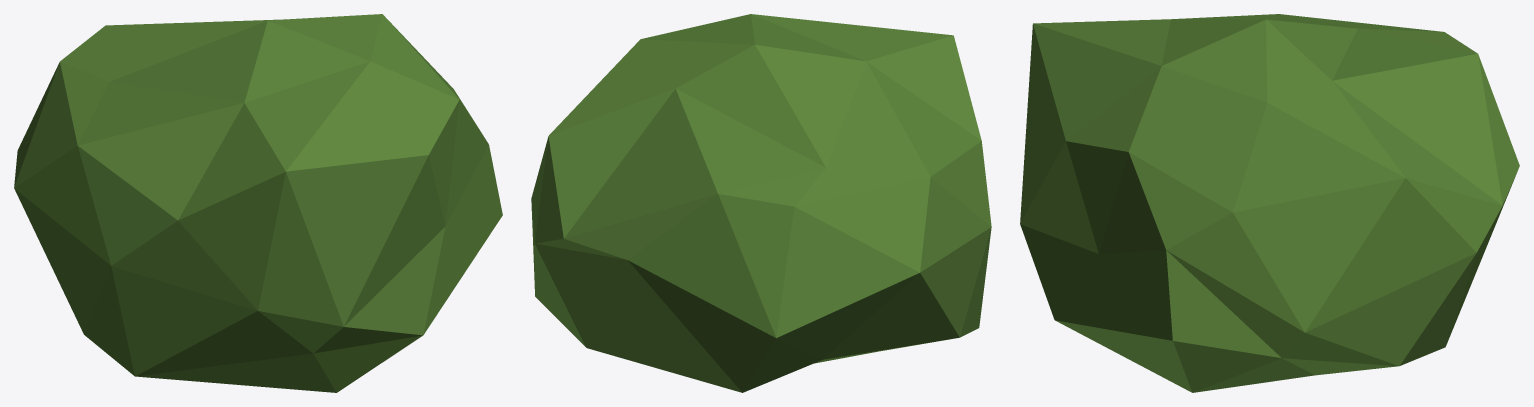
Rendered from Bush_01.fbx.
The picture shows the model from 3 angles, left to right: view 1: azimuth 30°, elevation 25°; view 2: azimuth 150°, elevation 25°; view 3: azimuth 270°, elevation 25°; orthographic projection. The views are drawn at different scales.
Parts seen in each view (by area): view 1: Cube; view 2: Cube; view 3: Cube.
Boxes of the visible parts, <box> form: Cube: <box>14,14,502,392</box>; Cube: <box>531,14,991,392</box>; Cube: <box>1020,14,1519,392</box>.
Bounding box in the file's own units: 73.57 × 51.16 × 71.58.
